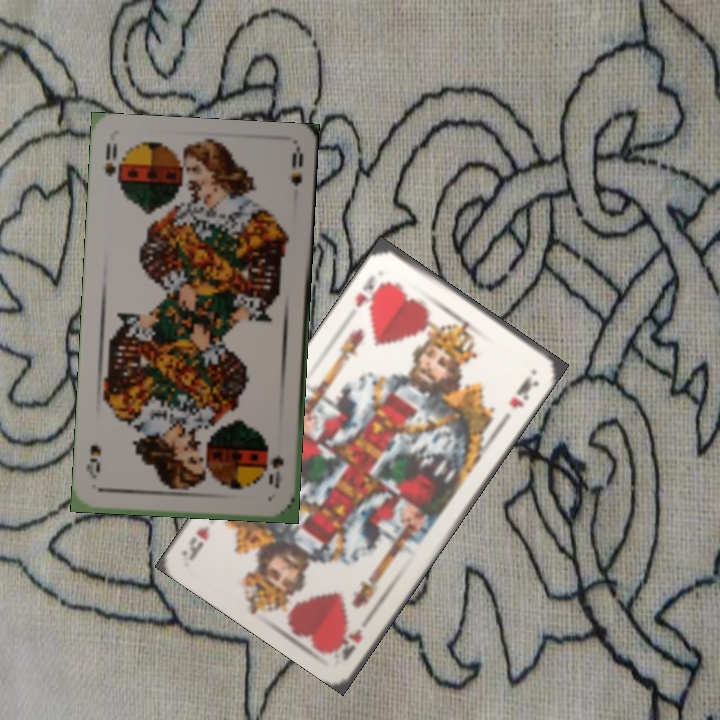HK: (351, 270, 390, 312), (331, 624, 365, 663)
SO: (265, 452, 286, 490), (101, 139, 120, 179)
